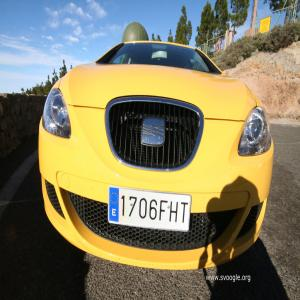Vehicle-registration-plate: (110, 187, 192, 233)
